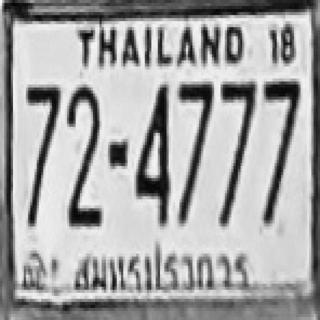N02: (66, 83, 100, 216)
N04: (134, 82, 168, 224)
N07: (218, 78, 255, 224), (262, 78, 298, 220), (177, 80, 212, 222), (25, 85, 59, 223), (262, 78, 298, 193), (177, 80, 212, 192), (262, 78, 298, 175), (177, 78, 212, 175), (218, 78, 255, 169), (25, 83, 59, 176)
P57: (70, 241, 256, 304)
